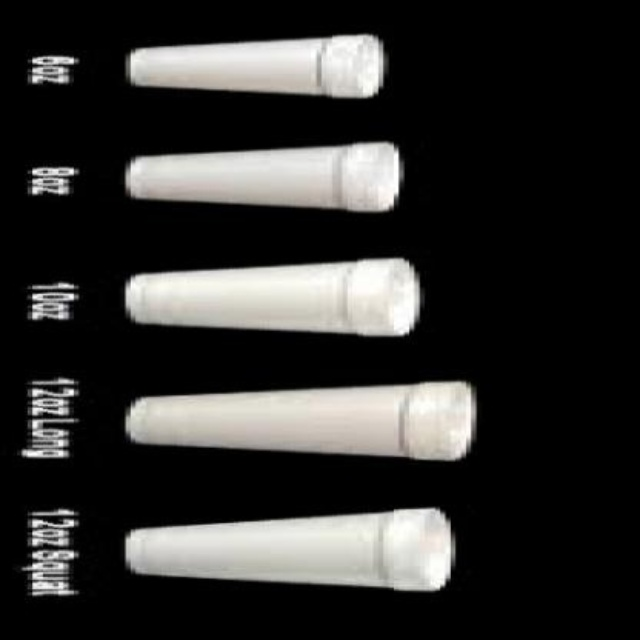trash: (125, 508, 452, 589), (126, 382, 474, 458), (125, 258, 418, 335), (126, 142, 398, 211), (126, 34, 382, 97)
